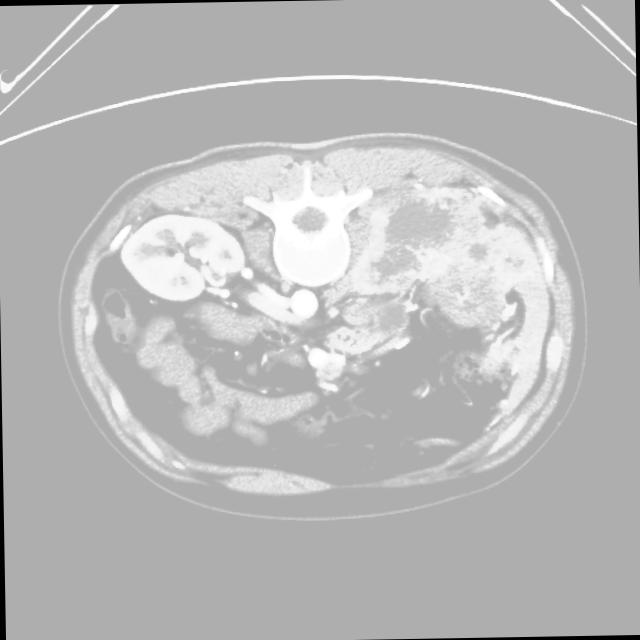TUMOR: (138, 269, 498, 431)
